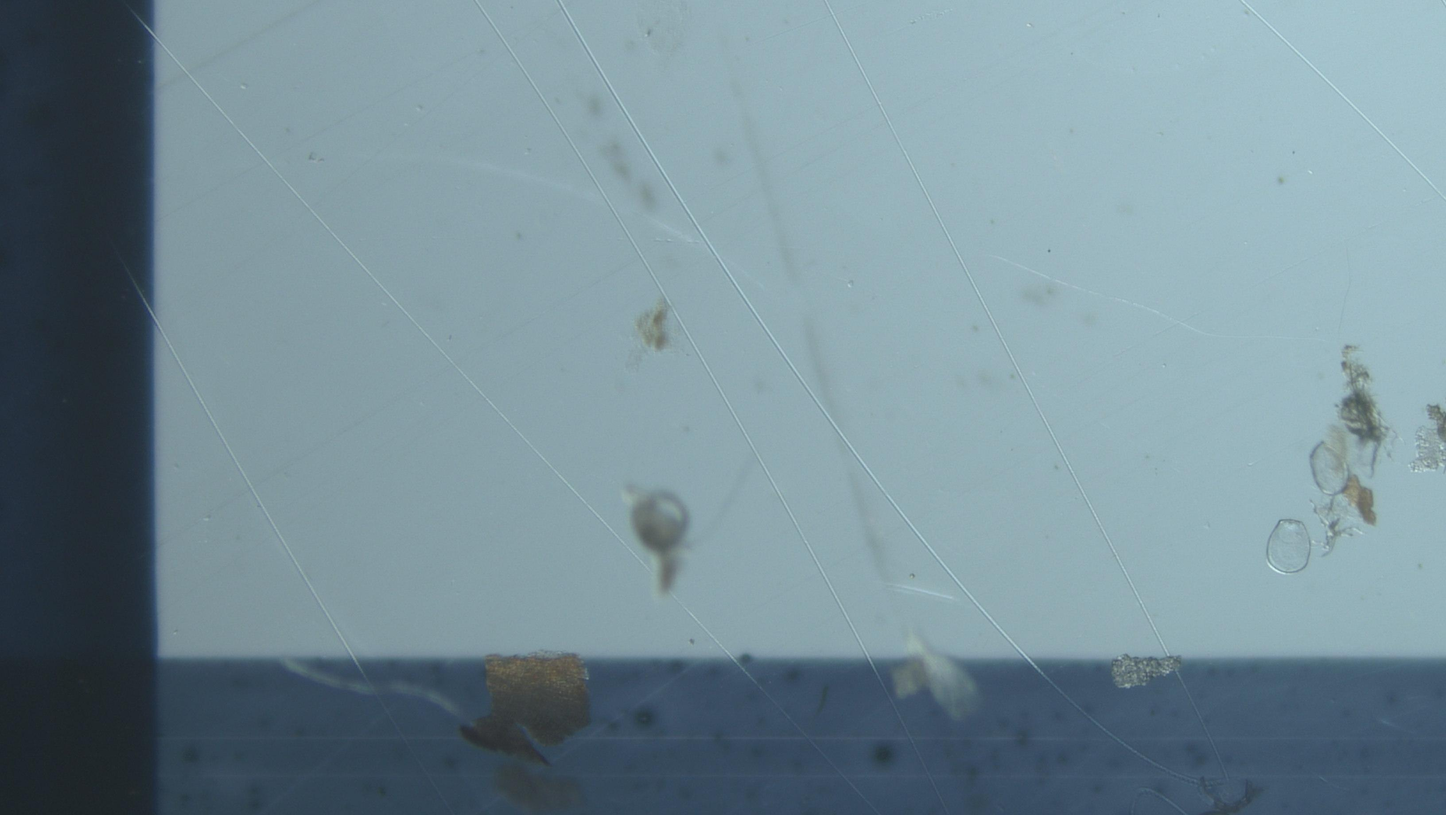dead: (1267, 519, 1312, 574), (1310, 440, 1349, 495)
